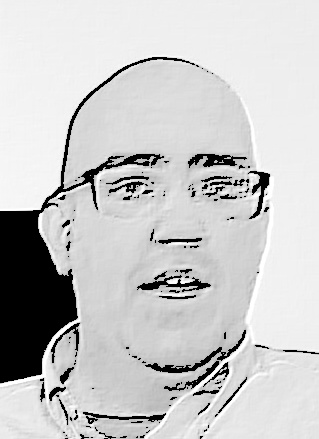nose_M_C: (148, 186, 212, 264)
